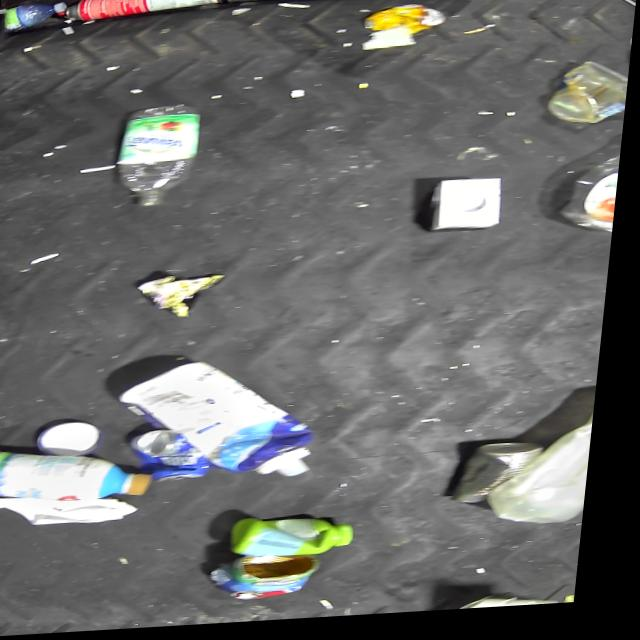can: (459, 447, 556, 512), (220, 556, 333, 606), (136, 430, 221, 486), (57, 0, 228, 23), (363, 7, 448, 42), (227, 0, 326, 6)
milk_jug: (494, 394, 605, 535)
plastic_bottle: (119, 106, 208, 211), (0, 2, 68, 39), (0, 306, 7, 425)
